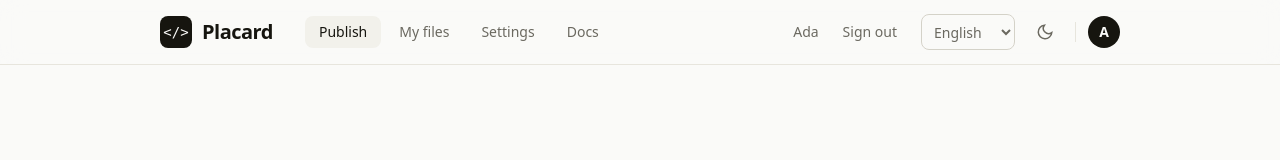
Test case: Header › picking Chinese retranslates the nav, sets <html lang> and persists
Select "简体中文" in the dropdown named "Language" at coordinates (968, 32), box [921,14,1015,50]
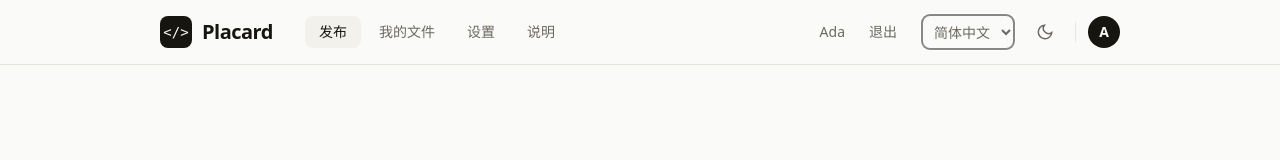
Check: the button "退出" is shown, box [857,16,909,48]
